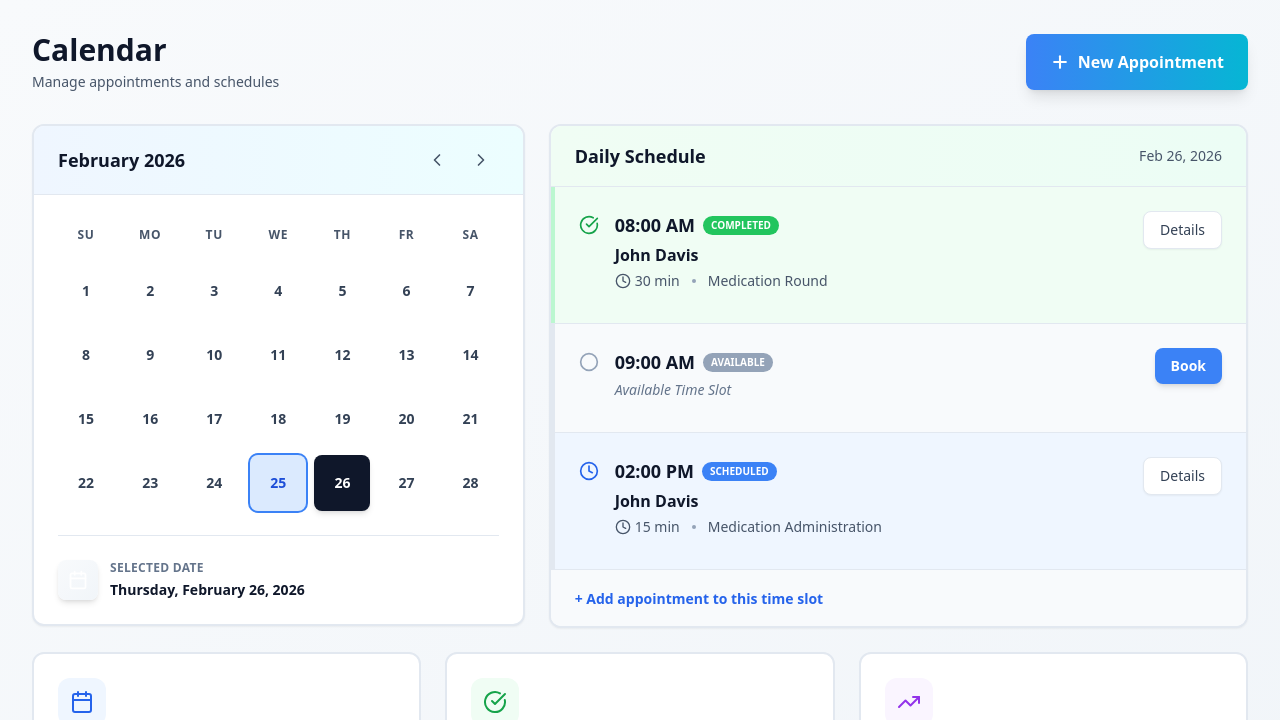
Test: SchedulePage Component › opens the modal when clicking a "Book" button in an available slot
What coordinates should you click on to do the following:
click the button "Book"
I would click on:
 (1188, 366)
Its box is [1155,348,1222,384].
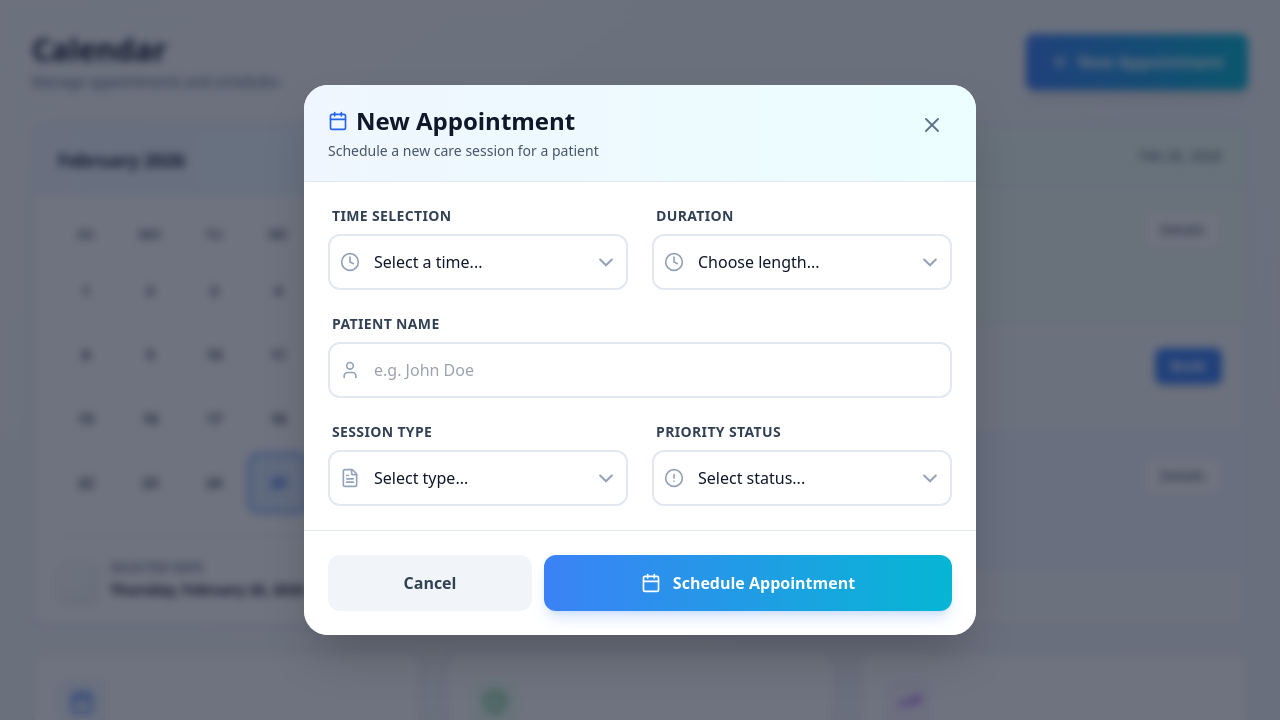
Now the element with test id "appointment-modal" is shown
